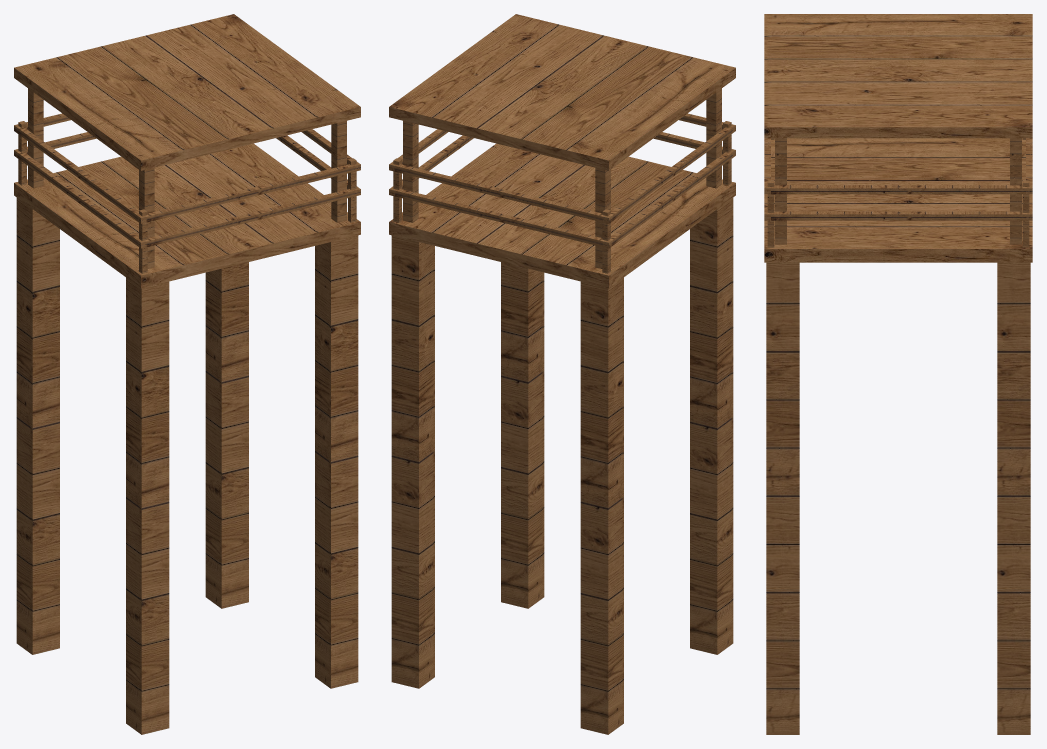
The model's file is sniper_tower.glb.
The picture shows the model from 3 angles, left to right: view 1: azimuth 30°, elevation 25°; view 2: azimuth 150°, elevation 25°; view 3: azimuth 270°, elevation 25°; orthographic projection. The views are drawn at different scales.
Parts seen in each view (by area): view 1: SniperTower; view 2: SniperTower; view 3: SniperTower.
Part boxes in pixels (bbox=[...]): SniperTower: bbox=[14, 14, 360, 734]; SniperTower: bbox=[389, 14, 735, 734]; SniperTower: bbox=[764, 14, 1032, 734].
Bounding box in the file's own units: 4 × 10 × 4.
1 material, 1 textured.
